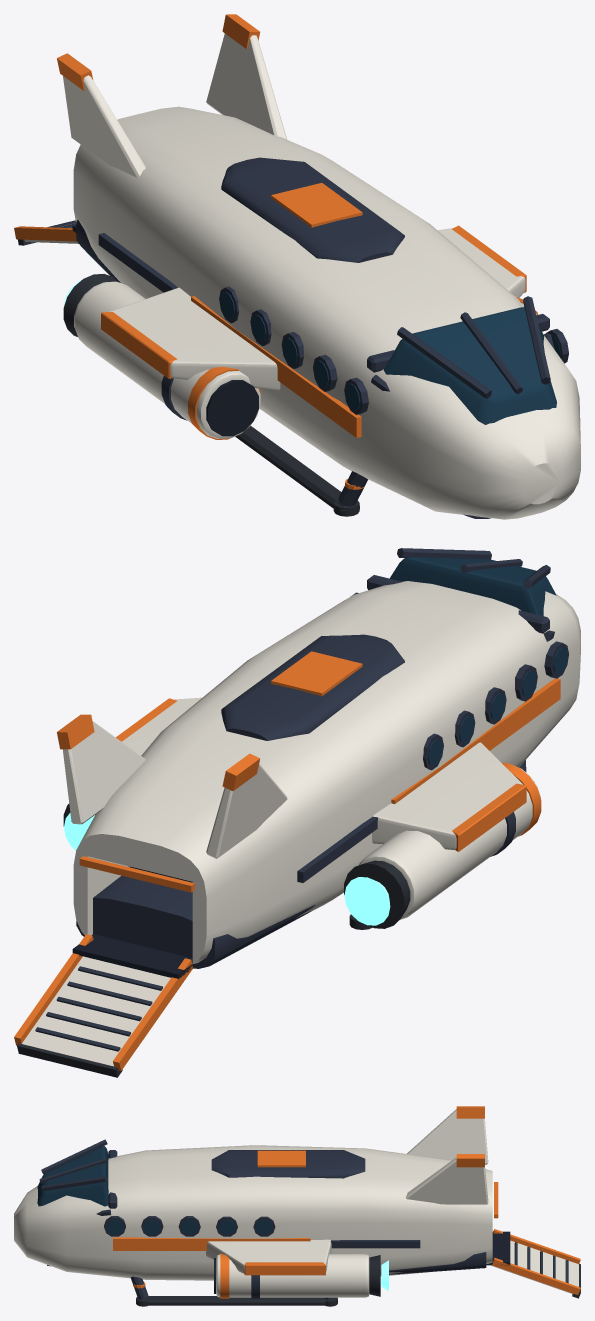
The model's file is skiff.fbx.
The picture shows the model from 3 angles, top to bottom: view 1: azimuth 30°, elevation 25°; view 2: azimuth 150°, elevation 25°; view 3: azimuth 270°, elevation 25°; orthographic projection. The views are drawn at different scales.
Parts seen in each view (by area): view 1: Body, Ramp; view 2: Body, Ramp, Engine_R; view 3: Body, Ramp.
Boxes of the visible parts, x1,y1,x2,y2 form: Body: (57,14,580,519); Ramp: (14,220,78,245); Body: (57,548,580,979); Ramp: (14,934,193,1077); Engine_R: (344,877,390,925); Body: (14,1106,510,1306); Ramp: (491,1229,580,1298).
Bounding box in the file's own units: 11.24 × 7.7 × 25.81.
Materials: 3 (1 with a texture image).
